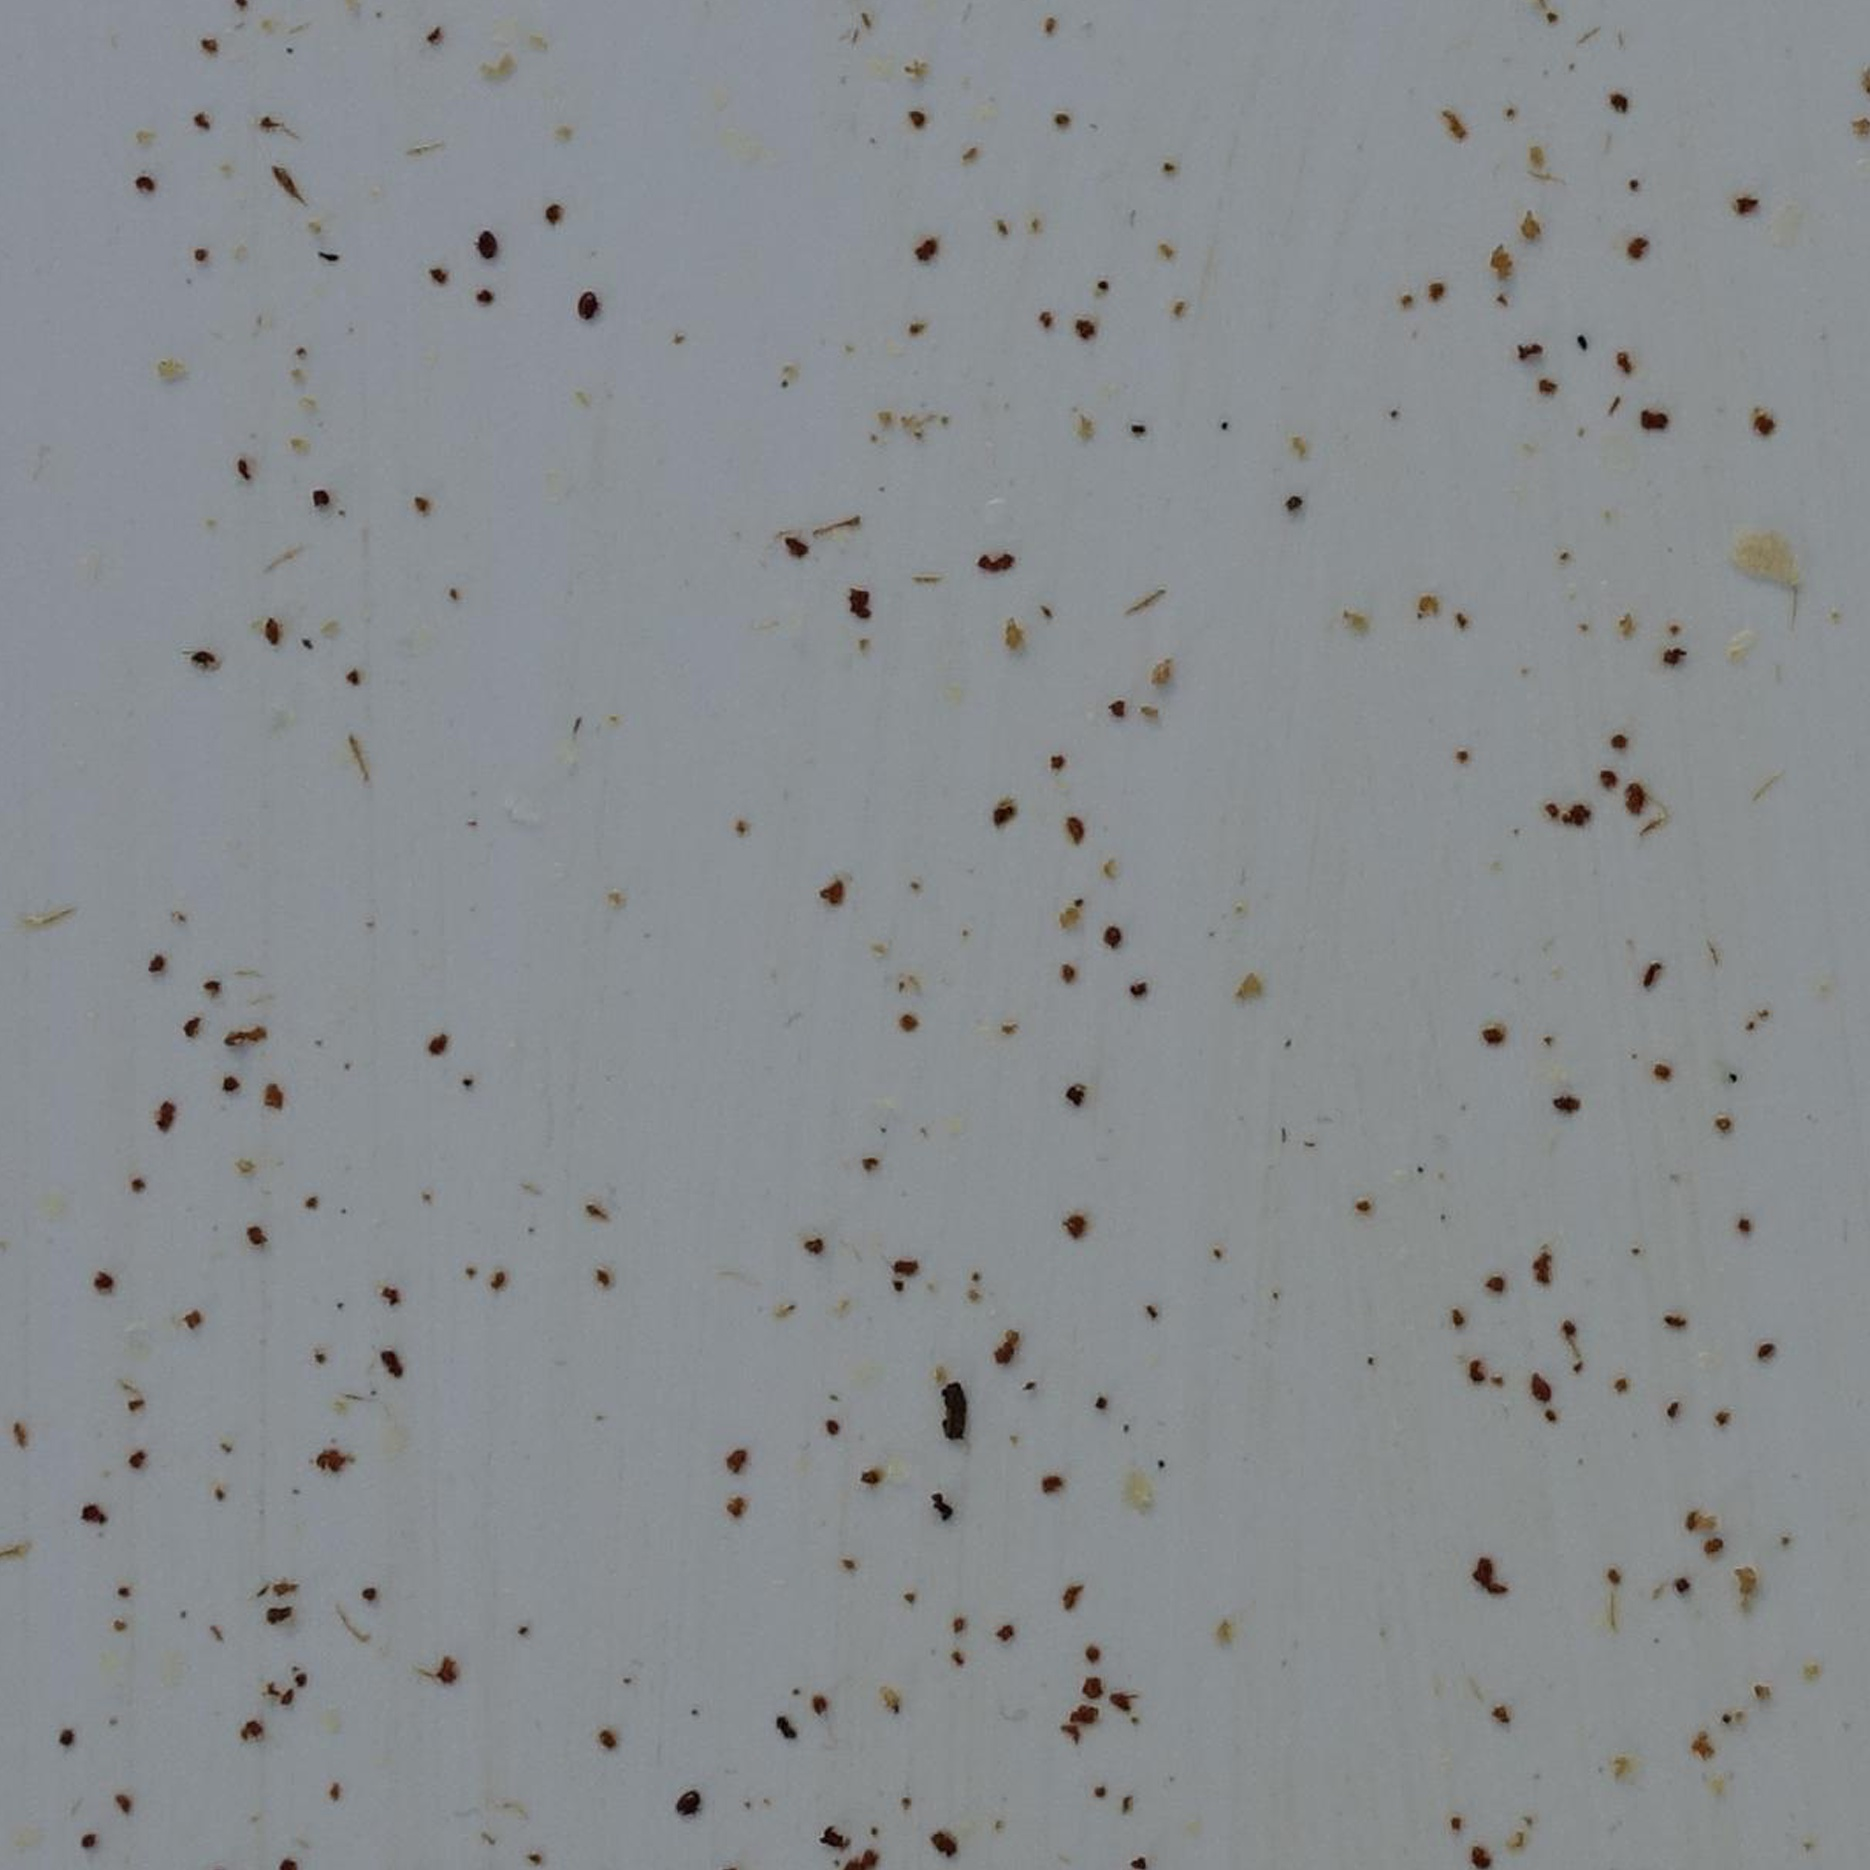Varroa: (1617, 774, 1659, 819), (574, 296, 594, 319), (476, 235, 495, 255), (676, 1790, 695, 1808)
